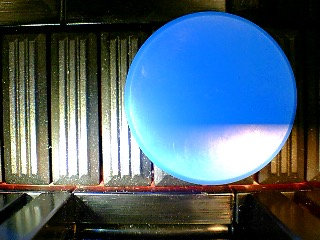BLANK: (124, 11, 298, 186)
